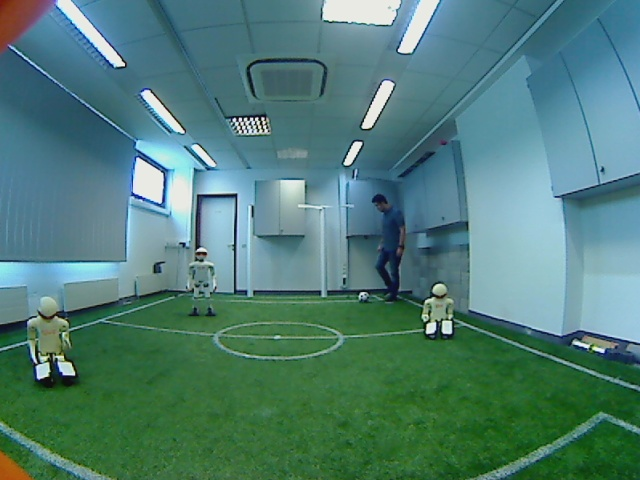ball: (353, 287, 374, 307)
robot: (21, 297, 82, 389), (186, 244, 220, 321), (419, 281, 456, 342)
